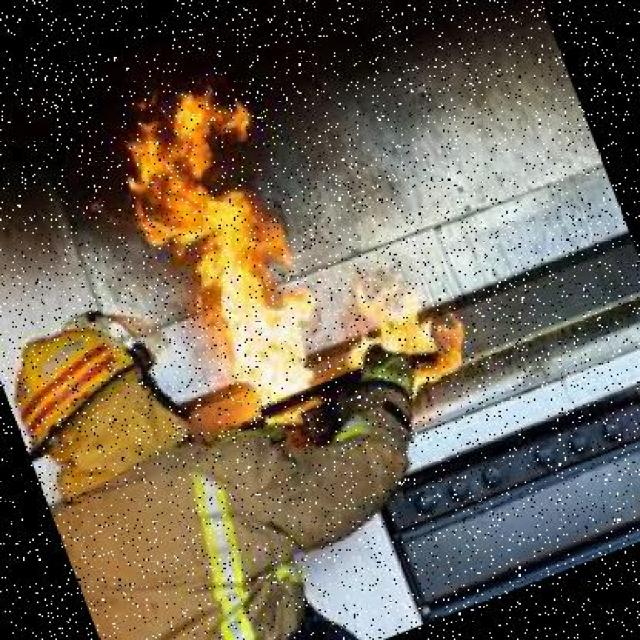fire: (55, 49, 383, 449)
